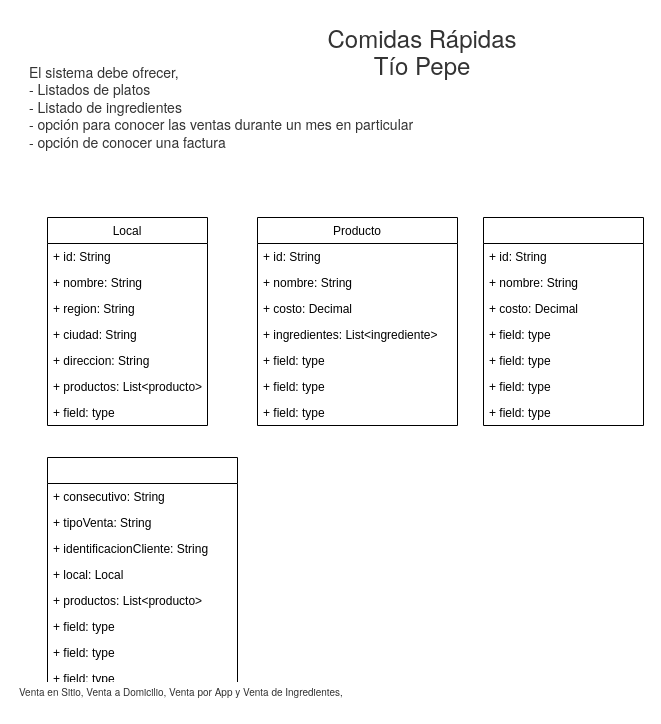
Some shapes in this 661 by 724 pixel diagram are drawn without their labels. Here are the shapes that lost their labels. From the top down, the box of each, then its label:
(482, 216, 644, 426): ingrediente
(46, 456, 238, 692): Factura
